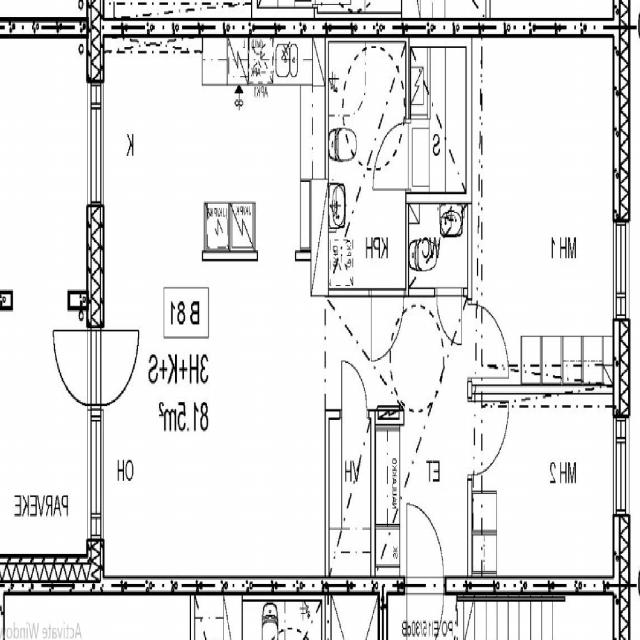door: (86, 330, 142, 405), (49, 330, 104, 405), (407, 504, 443, 594), (467, 401, 510, 475), (467, 304, 510, 378), (373, 124, 411, 190), (371, 288, 404, 362), (407, 576, 444, 640), (436, 288, 462, 346), (342, 360, 367, 418)
